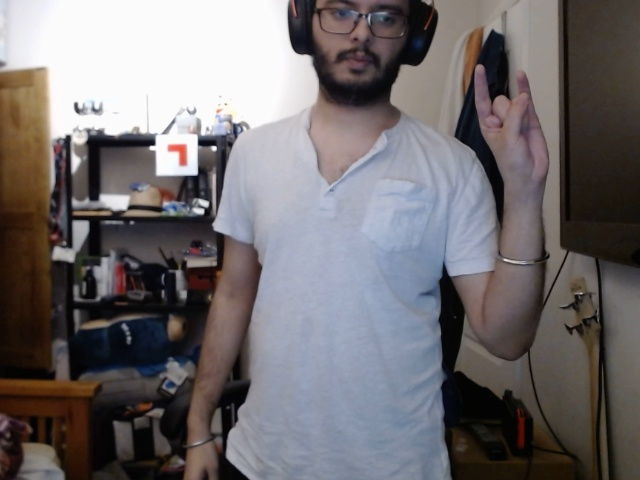Rock on: (471, 65, 549, 177)
